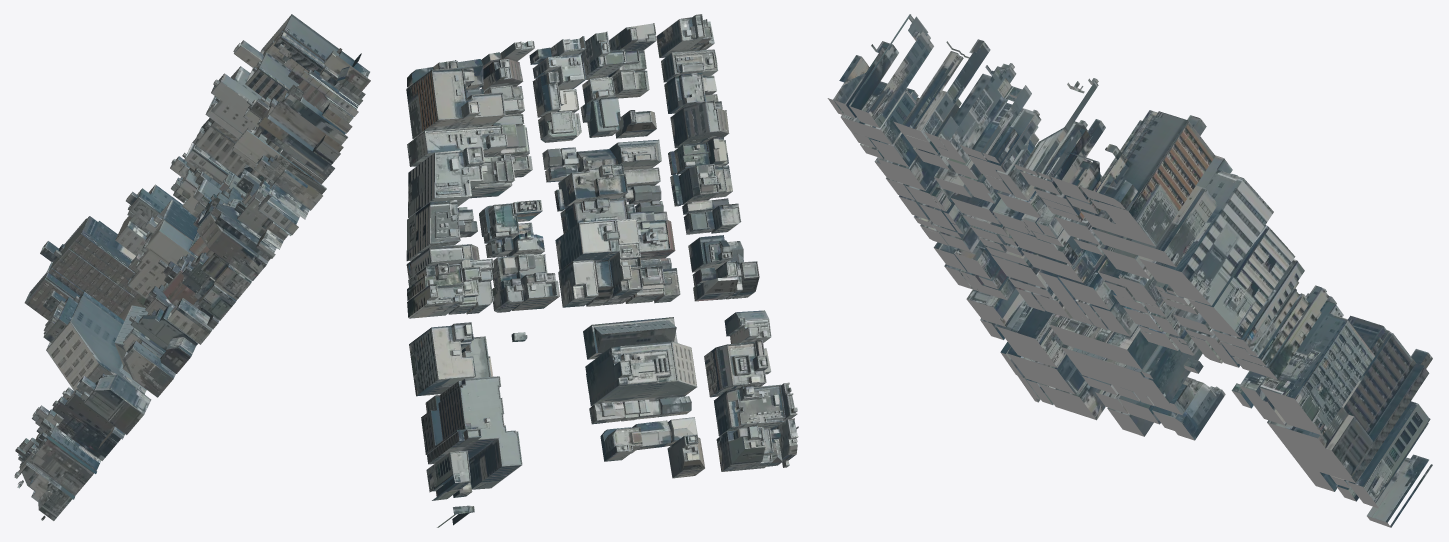
Rendered from 39538_bldg_Building.glb.
3 views of the same model, side by side, from view 1: azimuth 30°, elevation 25°; view 2: azimuth 150°, elevation 25°; view 3: azimuth 270°, elevation 25° (orthographic). The views are drawn at different scales.
Size of the model in its own units: 141 by 141 by 165.
Materials: 5 (3 with a texture image).
